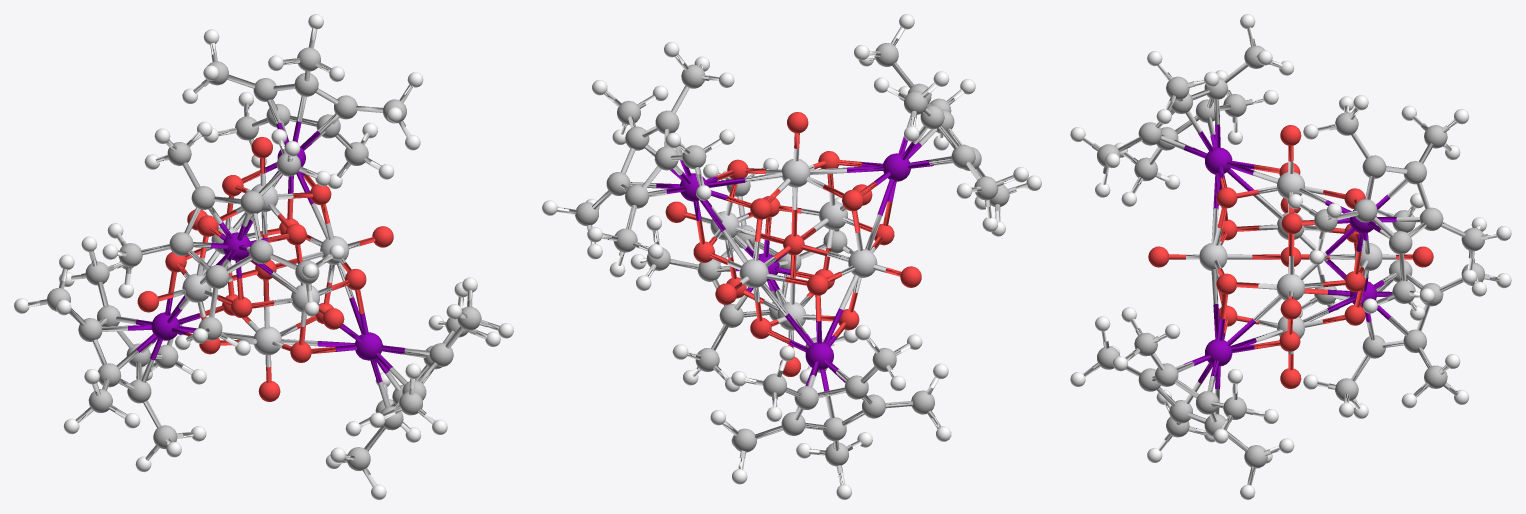
File: POM.glb
The picture shows the model from 3 angles, left to right: view 1: azimuth 30°, elevation 25°; view 2: azimuth 150°, elevation 25°; view 3: azimuth 270°, elevation 25°; orthographic projection. The views are drawn at different scales.
Visible parts, largest first — view 1: CpRh4V6O19; view 2: CpRh4V6O19; view 3: CpRh4V6O19.
Part boxes in pixels (<box>): CpRh4V6O19: <box>14,14,513,499</box>; CpRh4V6O19: <box>542,14,1041,499</box>; CpRh4V6O19: <box>1070,14,1511,499</box>.
Bounding box in the file's own units: 2.58 × 2.58 × 2.55.
